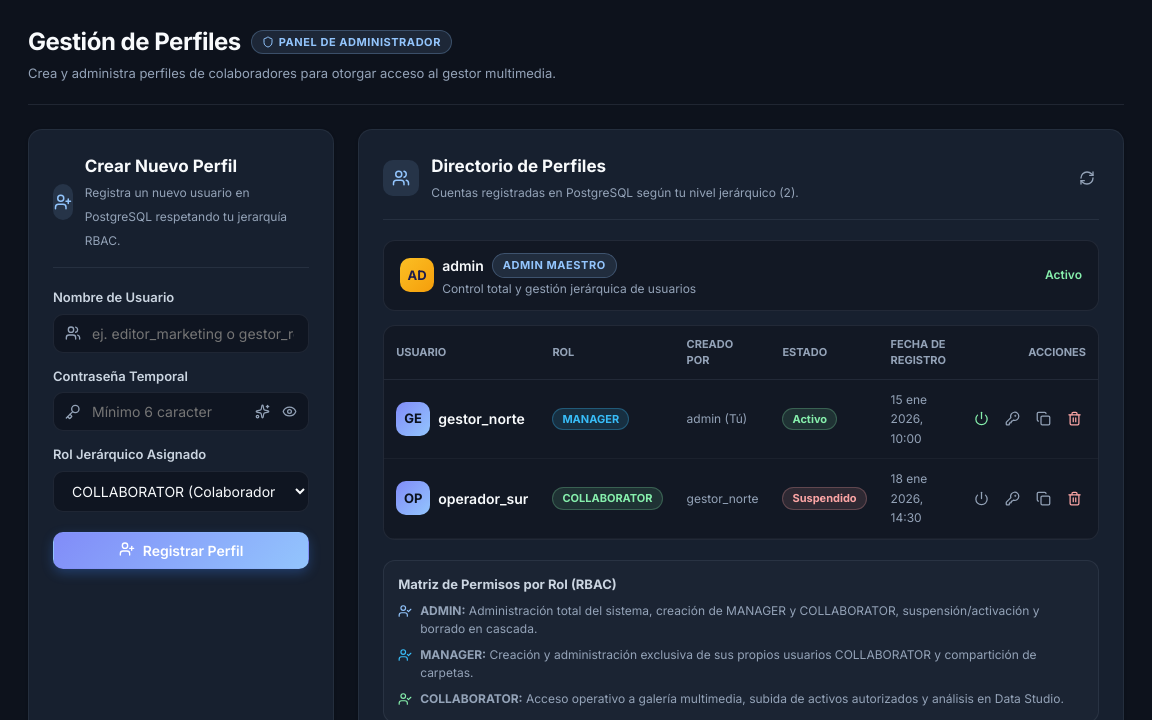
Test: UserProfilesView — RBAC & PostgreSQL CRUD Integration (Módulo 12) › opens DeleteUserModal with cascade warning and deletes user via usersService.deleteUser
The image size is (1152, 720).
Click the button named "Eliminar usuario operador_sur": (1074, 498) 1063,487 -> 1086,510
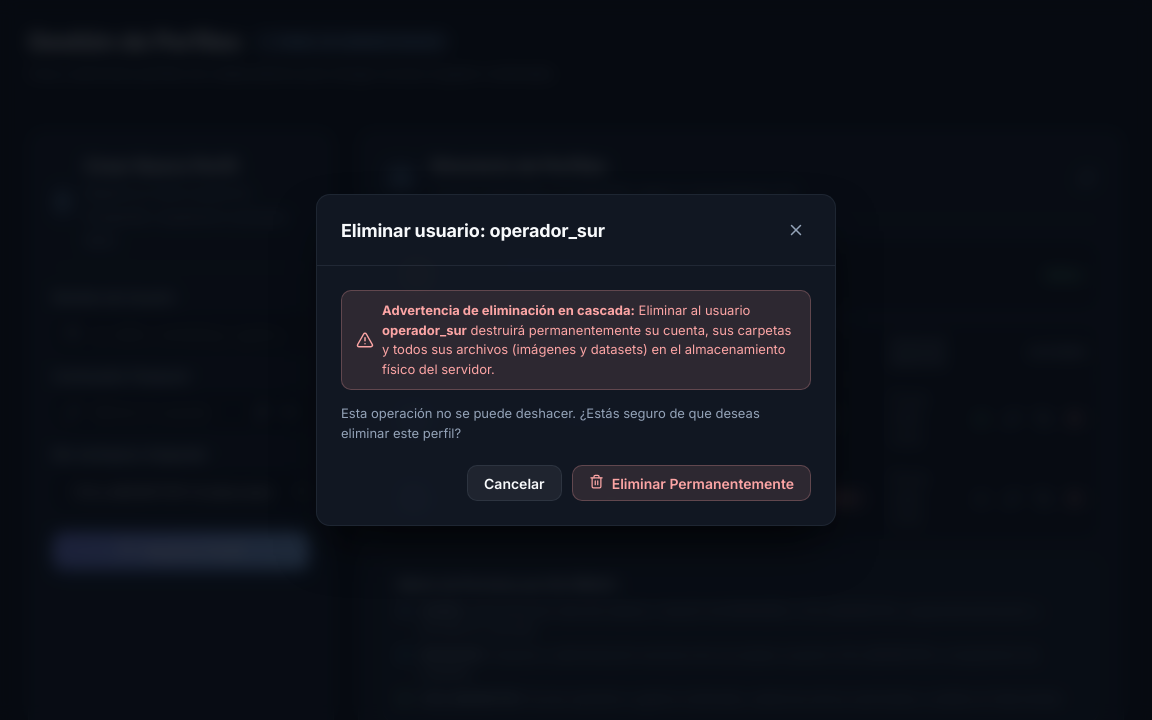
Expected: the heading "Eliminar usuario: operador_sur" is shown, 341,216 -> 605,244
Expected: the text "Advertencia de eliminación en cascada:" is shown, 382,302 -> 635,318
Click the button "Eliminar Permanentemente": (691, 483) 572,465 -> 811,501
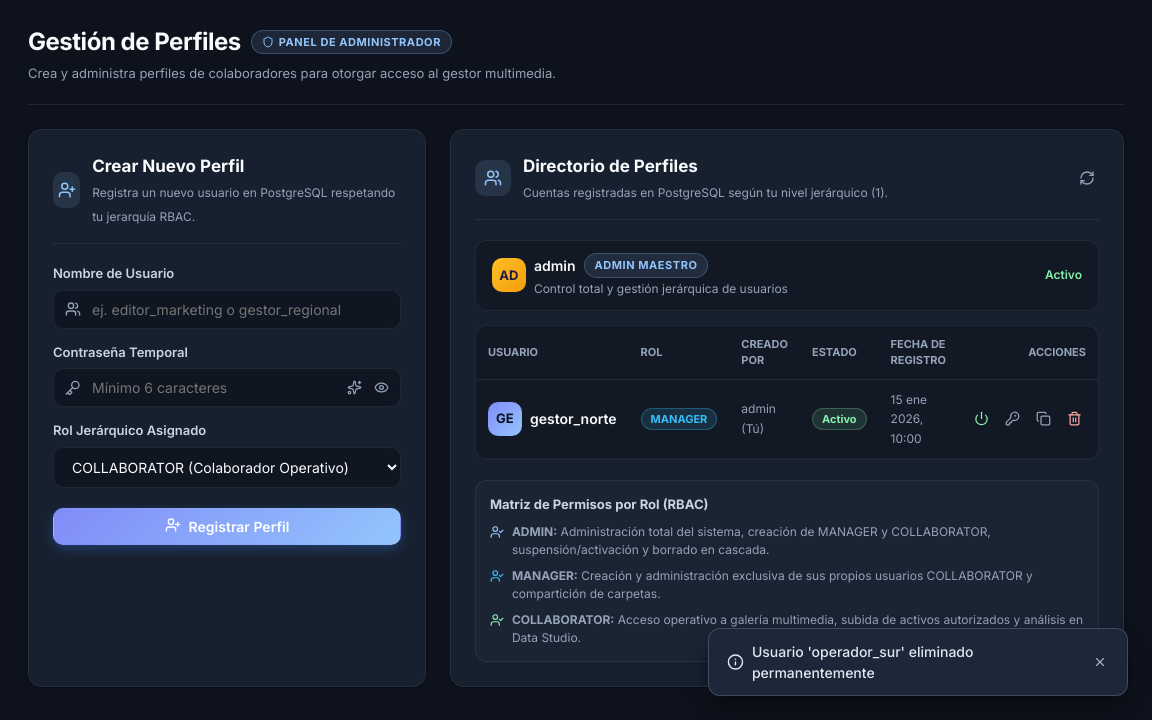
Expected: the row with test id "user-row-operador_sur" is gone
